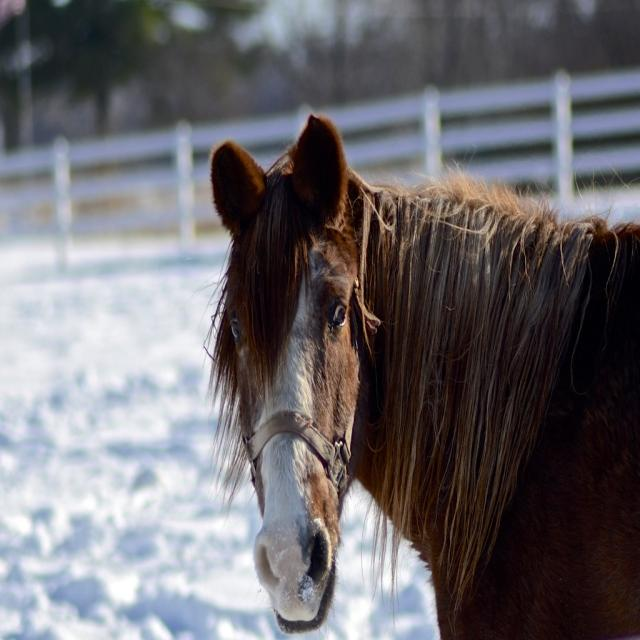Horse: (204, 110, 640, 640)
